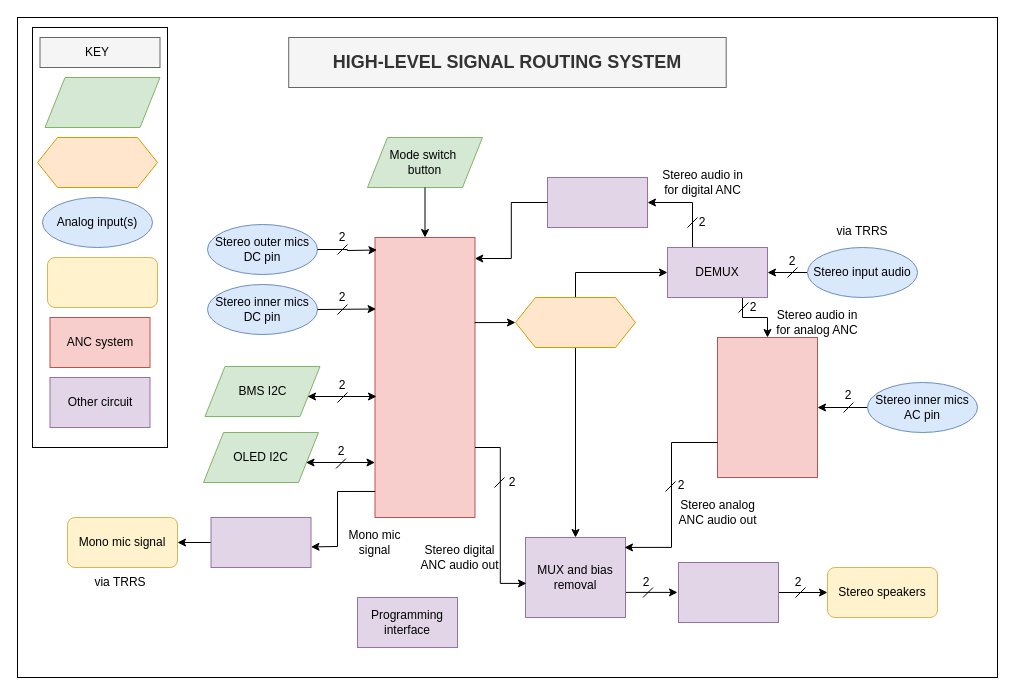
Image size: 1015x695. Some labels were removed from this diagram. The shapes that lost their labels are listed below. From the top down, each one's centre as x and y in pixels, then its label:
At (102,102): "Digital input(s)".
At (97,162): "Digital output(s)".
At (597,202): "Biasing stage".
At (102,282): "Analog output(s)".
At (575,322): "Mode control".
At (424,377): "Microcontroller unit (STM32)".
At (767,407): "Analog ANC circuit".
At (260,542): "PWM to analog".
At (728,592): "Stereo protection circuit".
